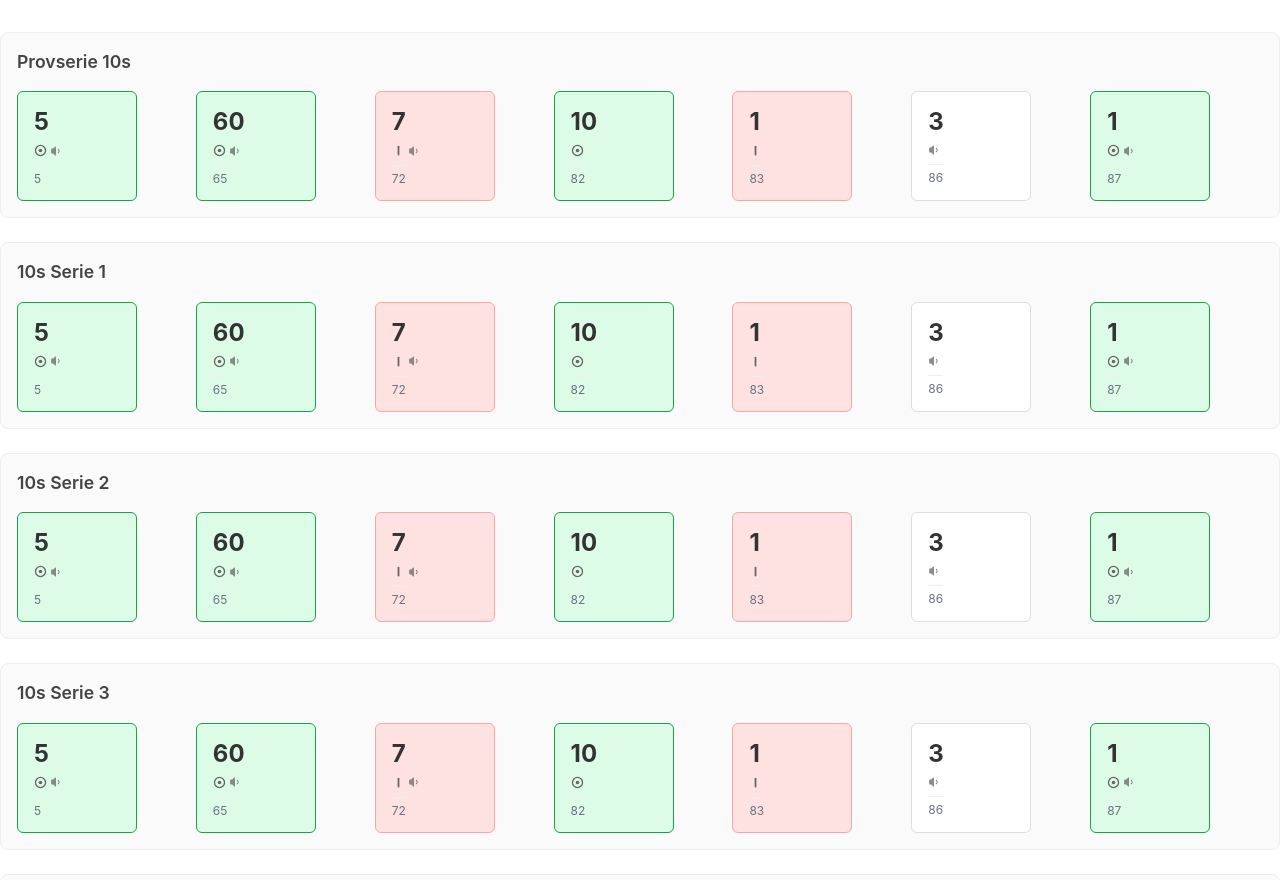
audio_ids badges › marks an event that carries audio, on the event-based timeline
expect the 1st picture named "Plays audio" is shown: met, box [50,145,62,157]
Click the button "5 5" below "Provserie 10s". click: (77, 146)
box: [17,91,137,201]
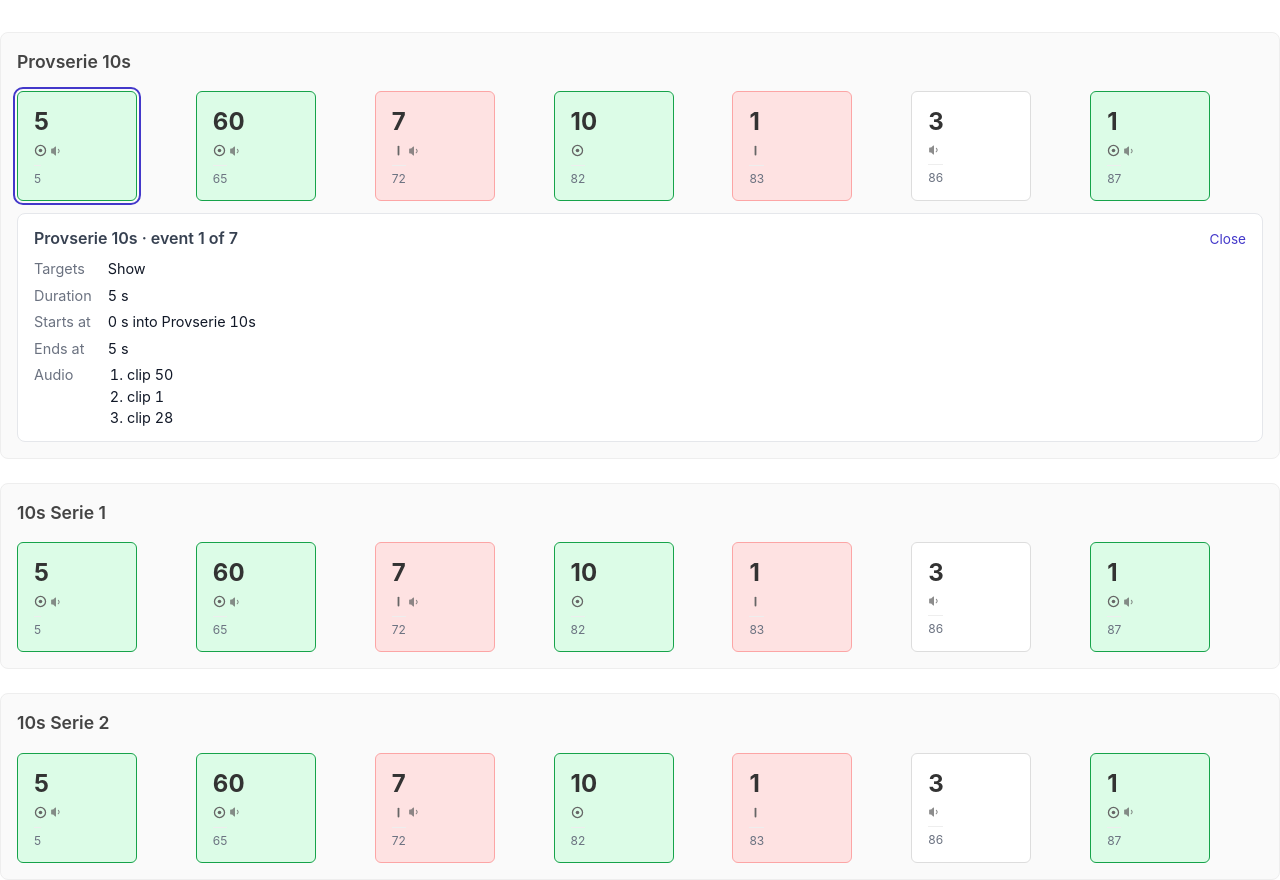
Click the 1st button "10 82". click: (614, 146)
box: [554,91,674,201]
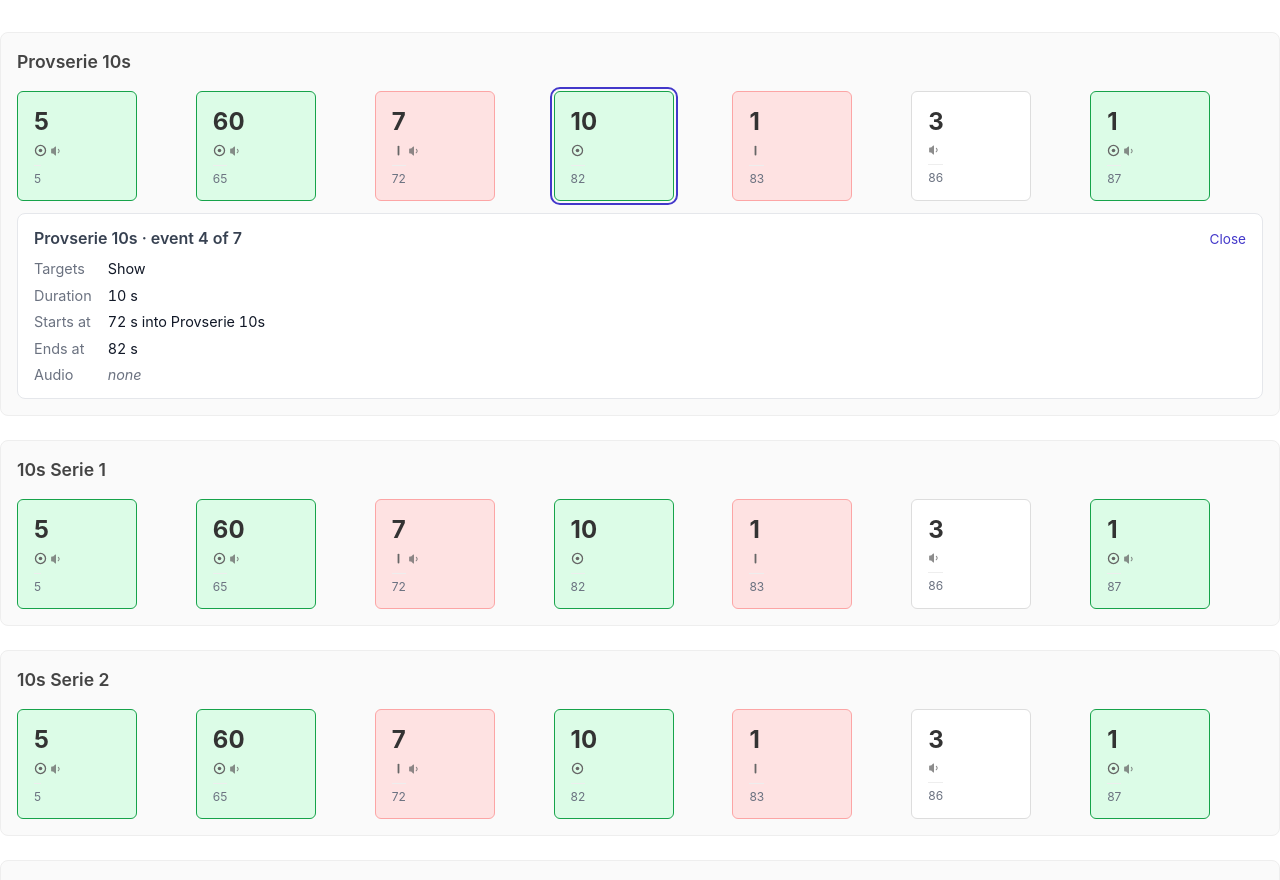
expect the text "none" is shown: met, box [108,366,142,383]
